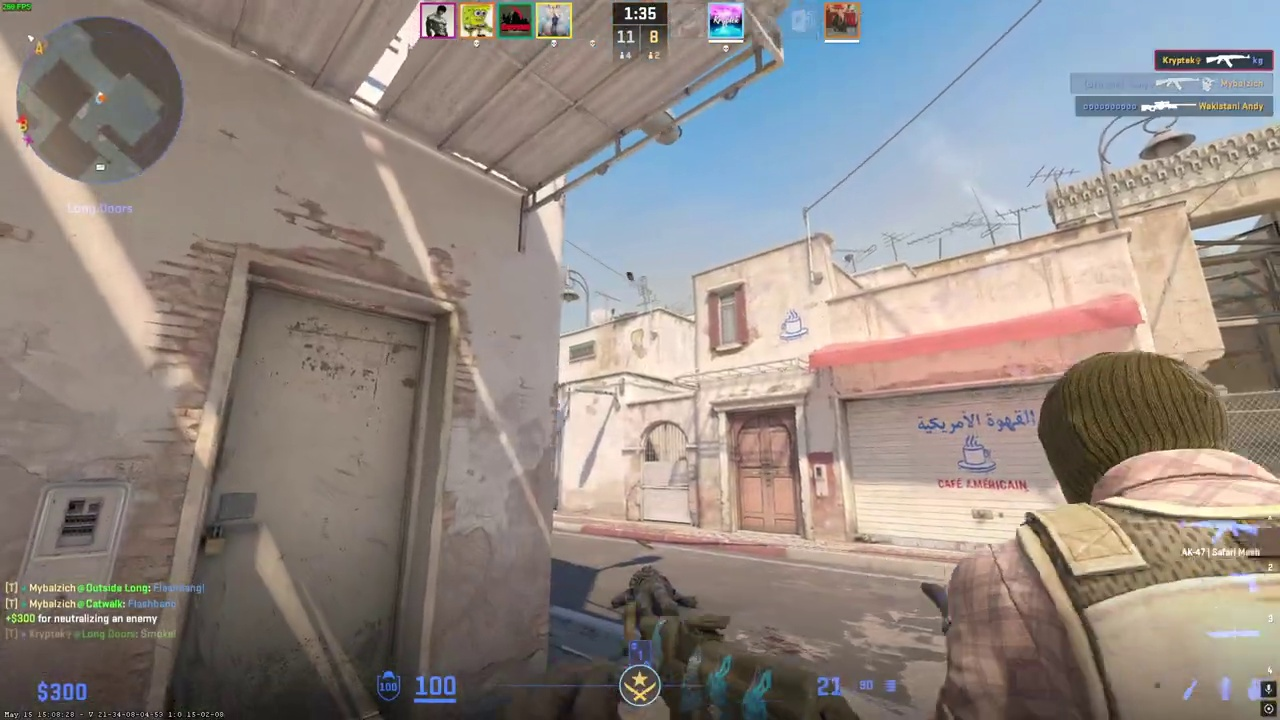Terrorist: (913, 352, 1279, 720)
